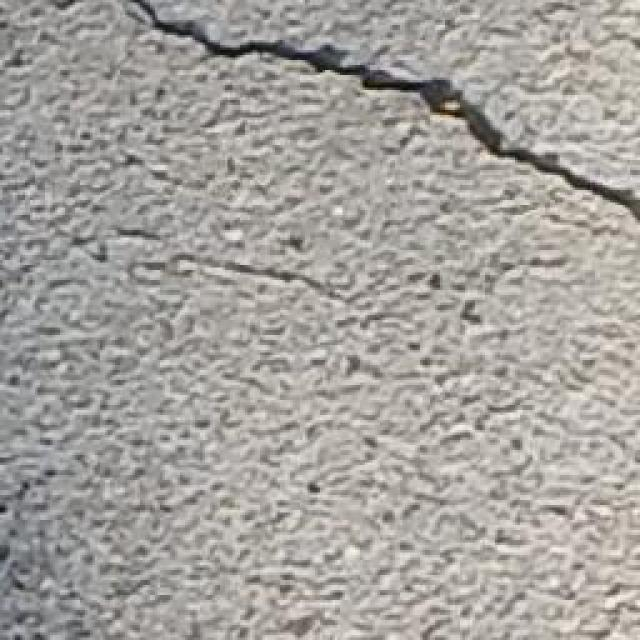concrete-crack: (122, 0, 640, 223)
